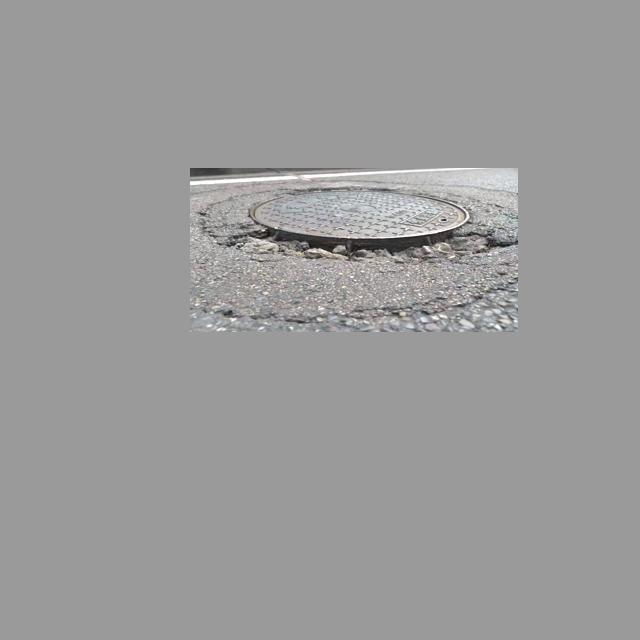circle: (199, 180, 513, 280)
